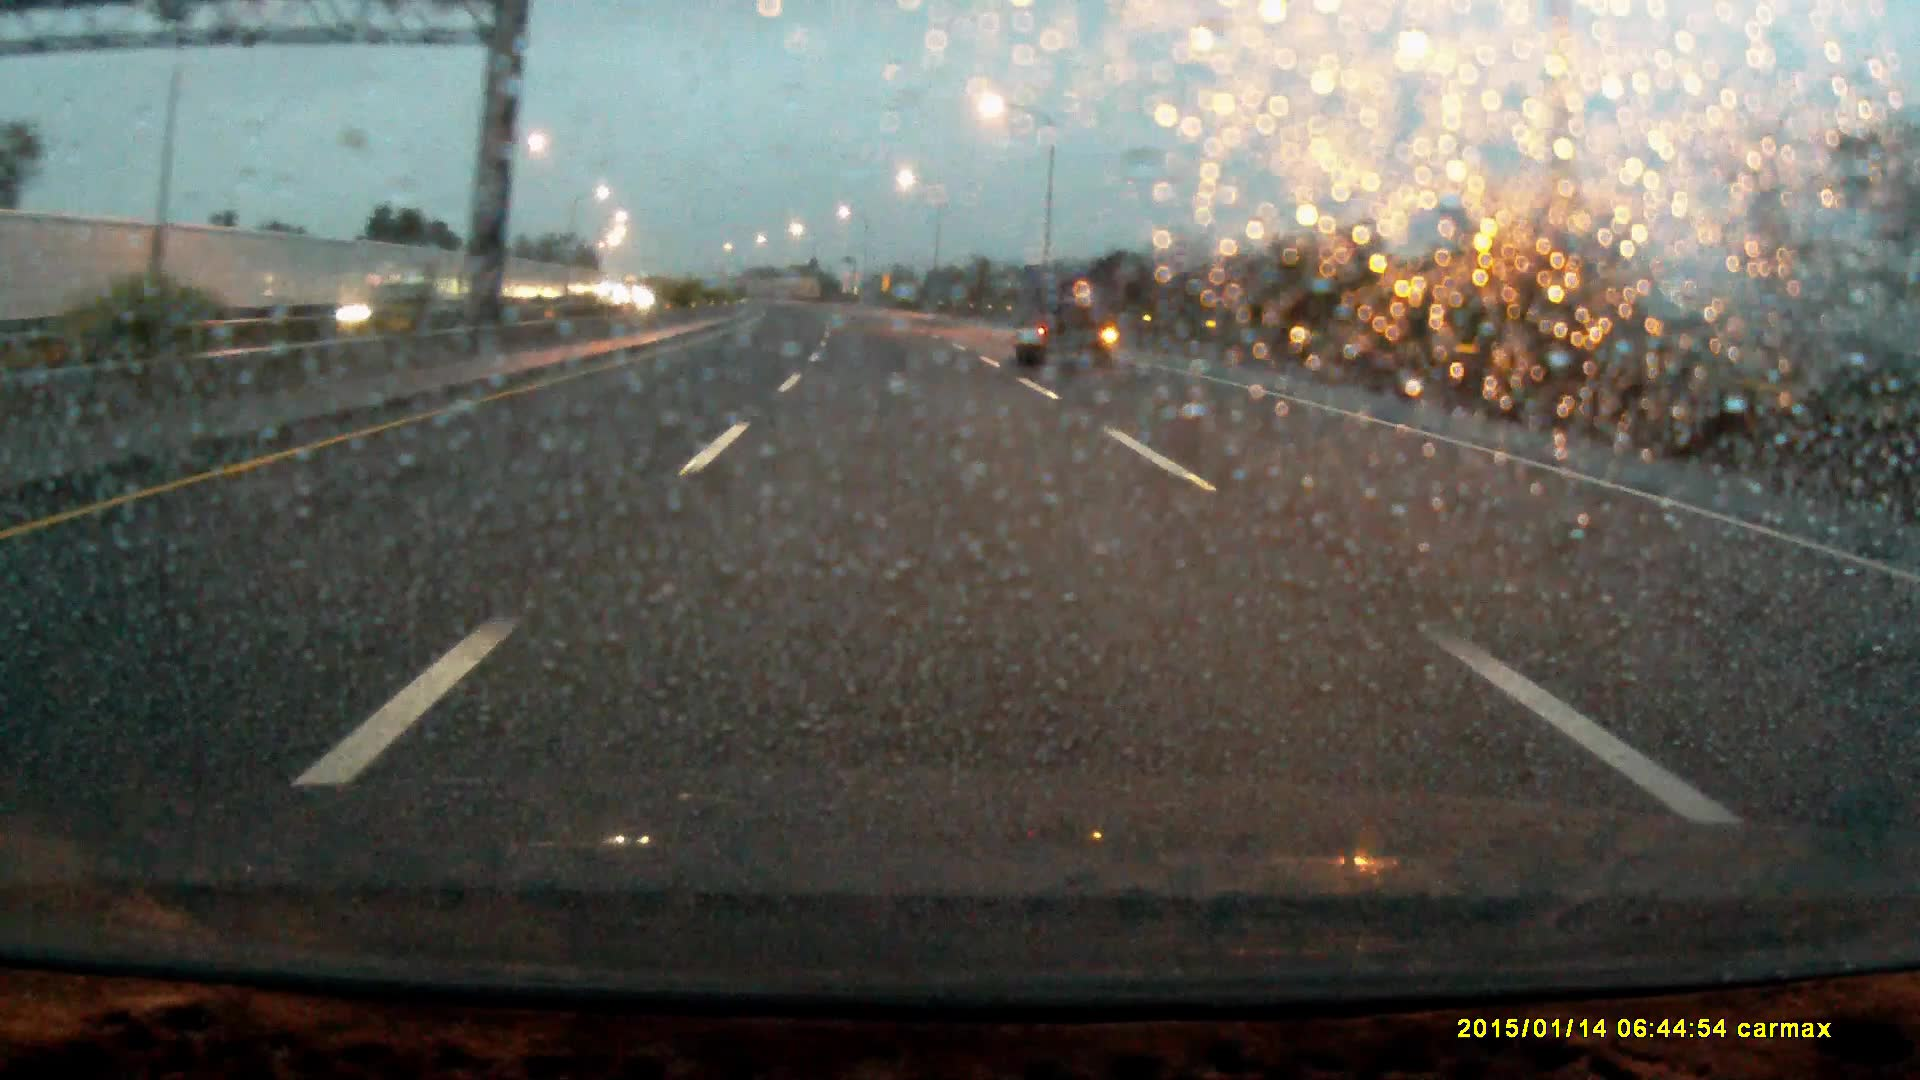vehicle: (1011, 276, 1112, 373), (285, 281, 413, 342), (599, 282, 665, 315)
